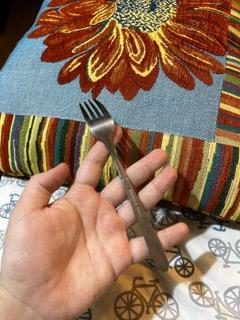fork: (75, 96, 171, 273)
